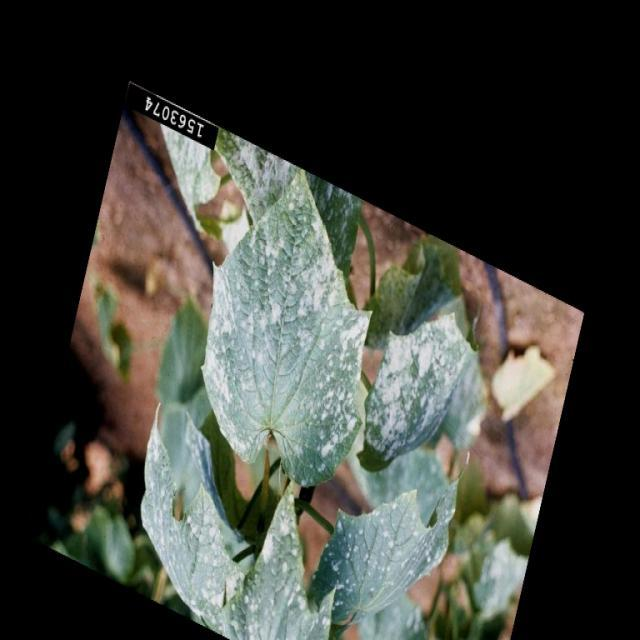Leaf_Mold: (205, 172, 373, 494), (133, 420, 321, 640), (305, 466, 463, 640), (366, 311, 492, 467)
